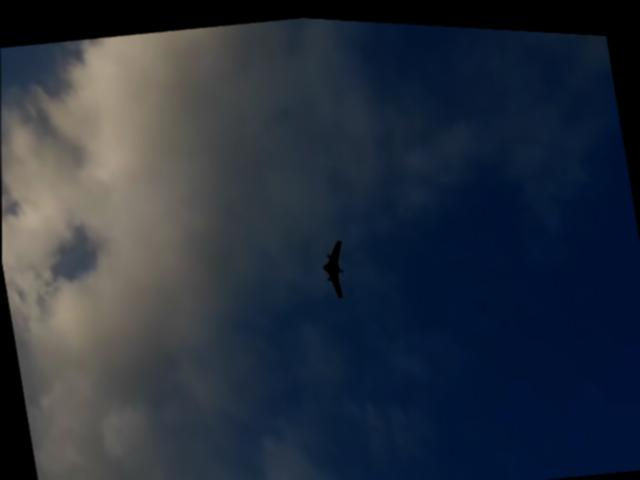plane: (319, 236, 352, 297)
